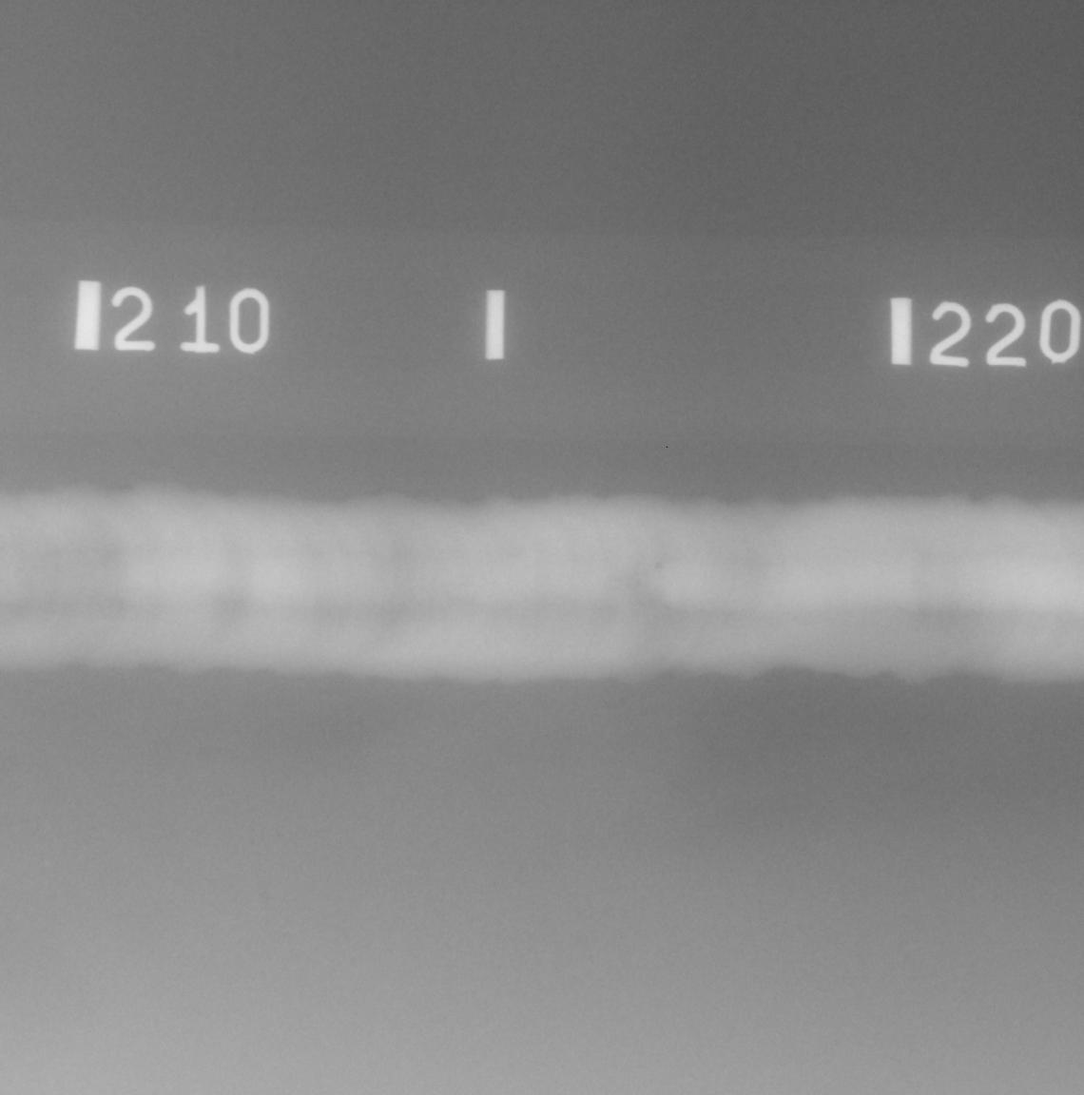Pore/Porosity: (655, 564, 663, 571)
